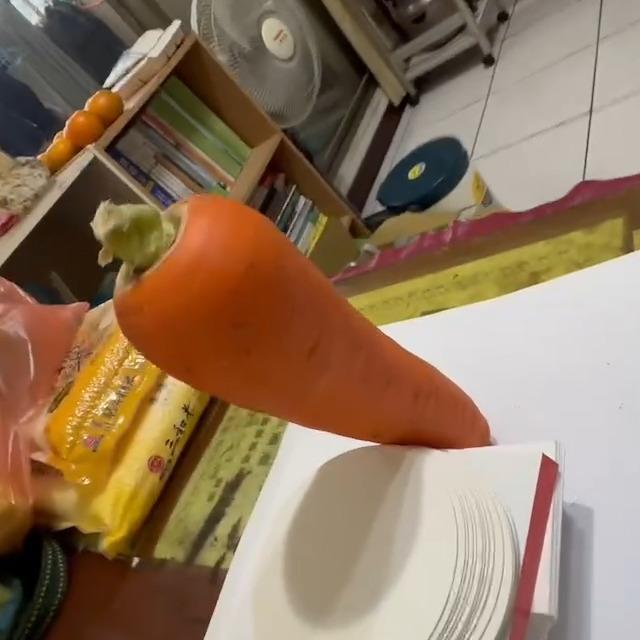carrot: (87, 192, 493, 453)
